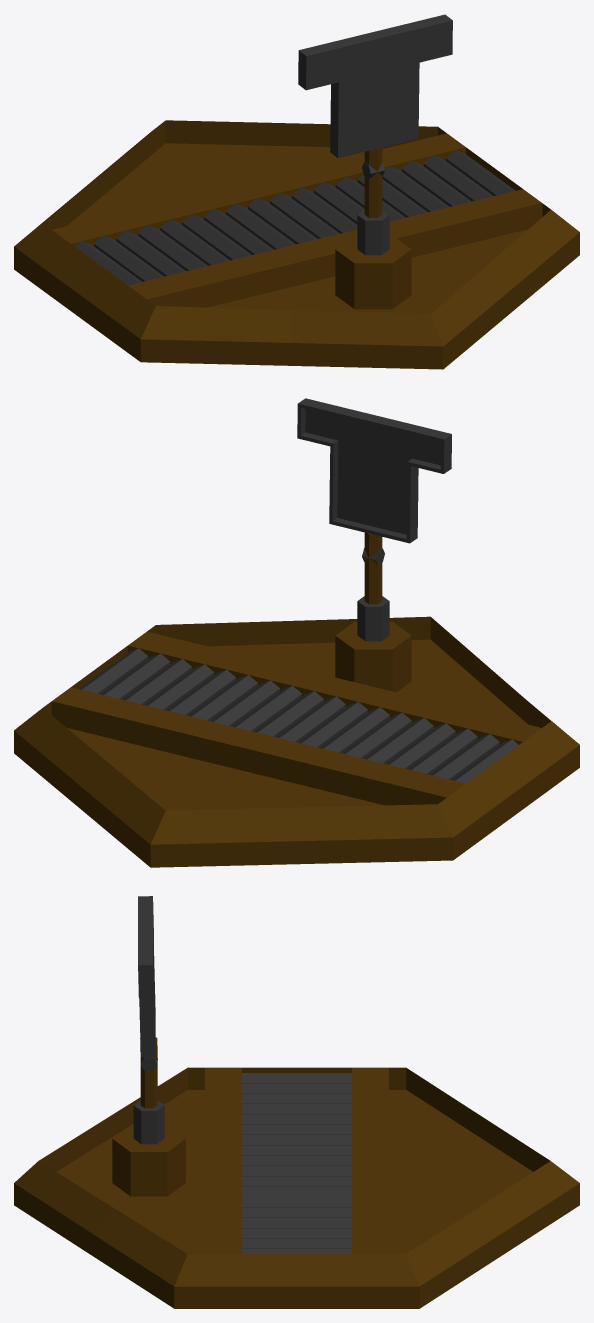
Rendered from sewingMachine.fbx.
3 views of the same model, one above another, from view 1: azimuth 30°, elevation 25°; view 2: azimuth 150°, elevation 25°; view 3: azimuth 270°, elevation 25° (orthographic). The views are drawn at different scales.
Parts seen in each view (by area): view 1: Sewing Machine, Sweing Machine Base; view 2: Sewing Machine, Sweing Machine Base; view 3: Sweing Machine Base, Sewing Machine.
Part boxes in pixels (left/top/right/bottom): Sewing Machine: left=52, top=14, right=542, bottom=309; Sweing Machine Base: left=14, top=120, right=579, bottom=369; Sewing Machine: left=51, top=398, right=541, bottom=805; Sweing Machine Base: left=14, top=616, right=579, bottom=867; Sweing Machine Base: left=14, top=1067, right=579, bottom=1308; Sewing Machine: left=112, top=896, right=388, bottom=1253.
Size of the model in its own units: 200 by 124 by 231.
